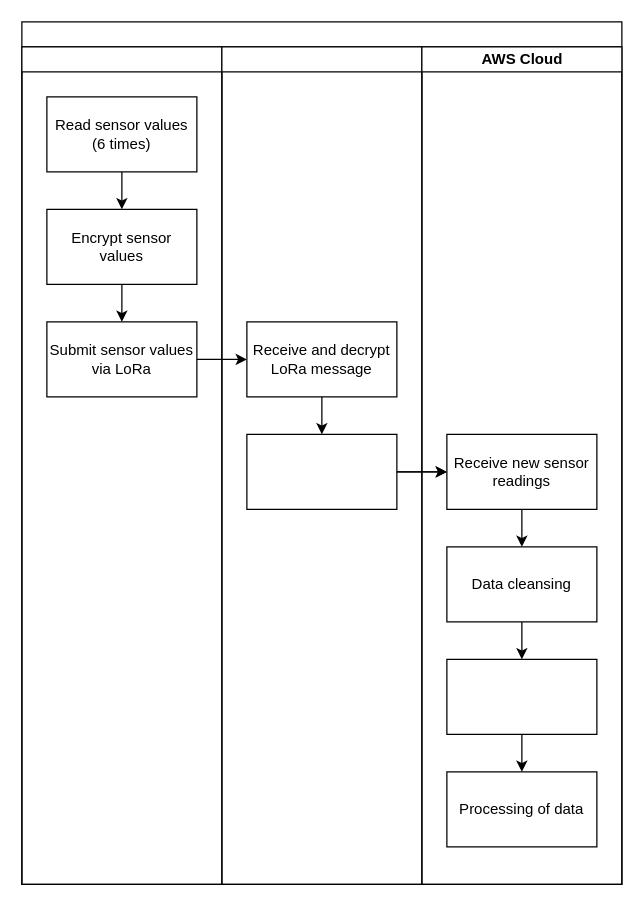
This 644x906 diagram has some shape labels left out. The shapes that lost their labels are listed below. From the top down, each one's box as (x1, y1, x2, y2) in pixels, then its label:
(21, 46, 222, 884): ESP32 Sensor Node
(221, 46, 422, 884): ESP32 Gateway Node
(246, 433, 397, 509): Submit sensor values as JSON to AWS (MQTT)
(446, 658, 597, 734): Storing of data
